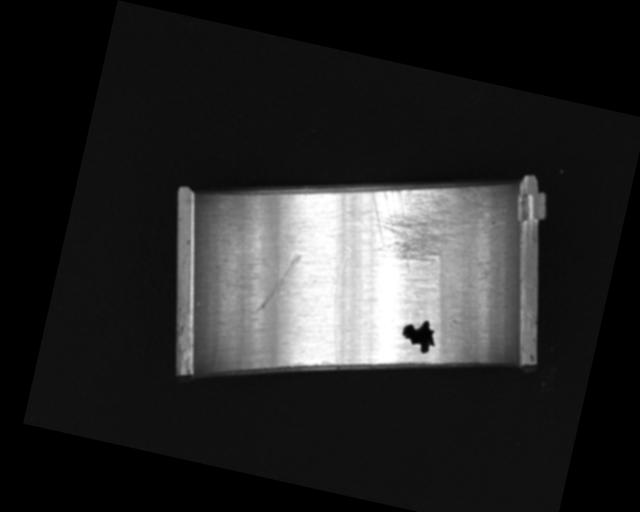blot: (398, 315, 440, 357)
nick: (315, 246, 363, 366), (254, 246, 302, 321)
scratch: (356, 163, 487, 285)
